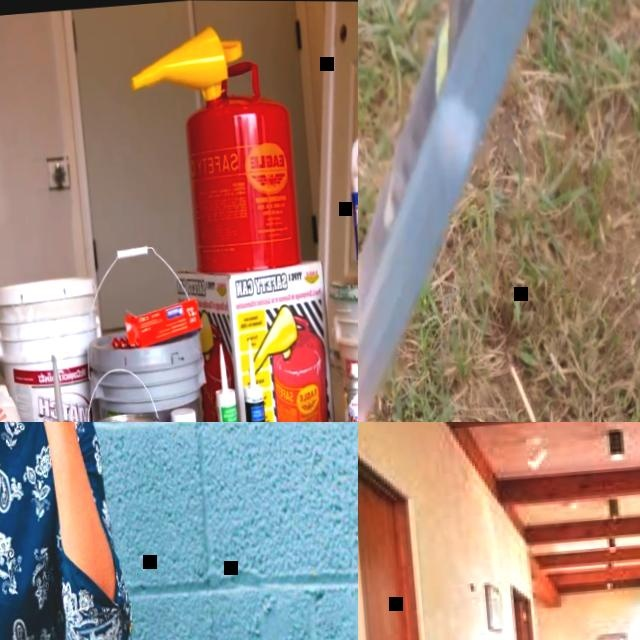NO-Safety Vest: (0, 422, 86, 640)
Person: (0, 422, 141, 640)
